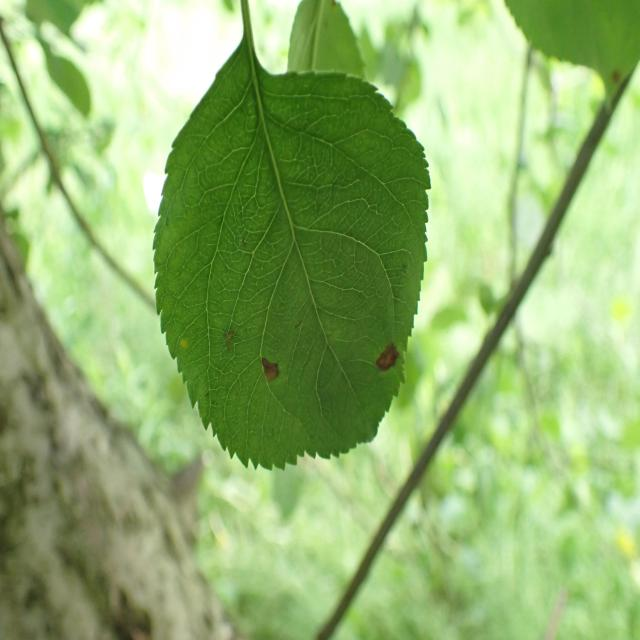Black Rot: (254, 338, 286, 404), (366, 337, 414, 380)
